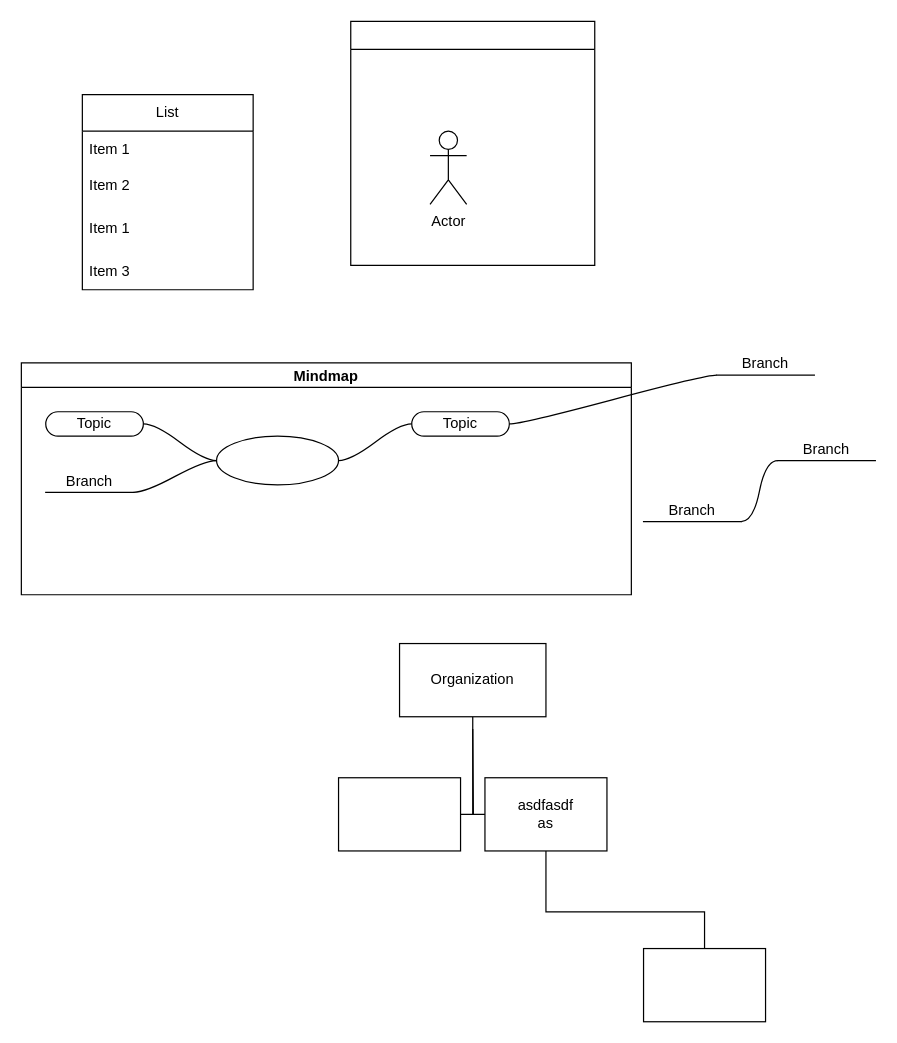
Some shapes in this 897 by 1043 pixel diagram are drawn without their labels. Here are the shapes that lost their labels. From the top down, the box of each, then its label:
(350, 20, 595, 265): Vertical Container
(215, 435, 339, 485): Central Idea
(337, 777, 461, 851): asdfasdf
(642, 947, 766, 1022): Division
